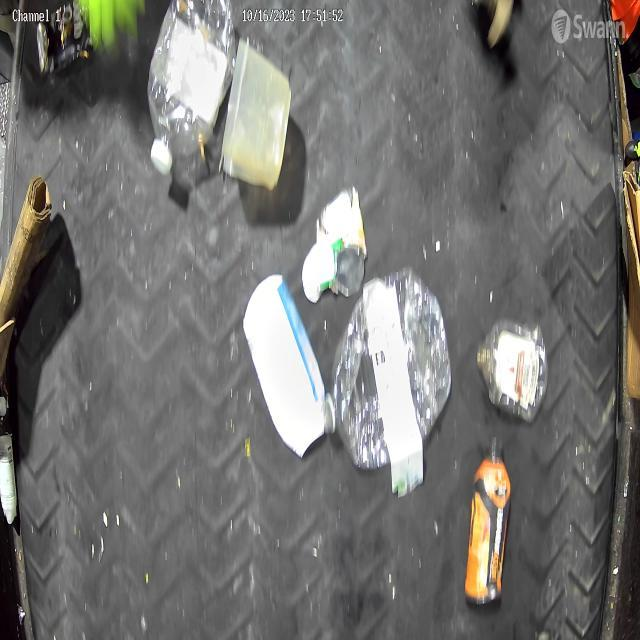can: (302, 186, 365, 304), (35, 0, 90, 74)
plastic_bottle: (148, 0, 236, 179)
